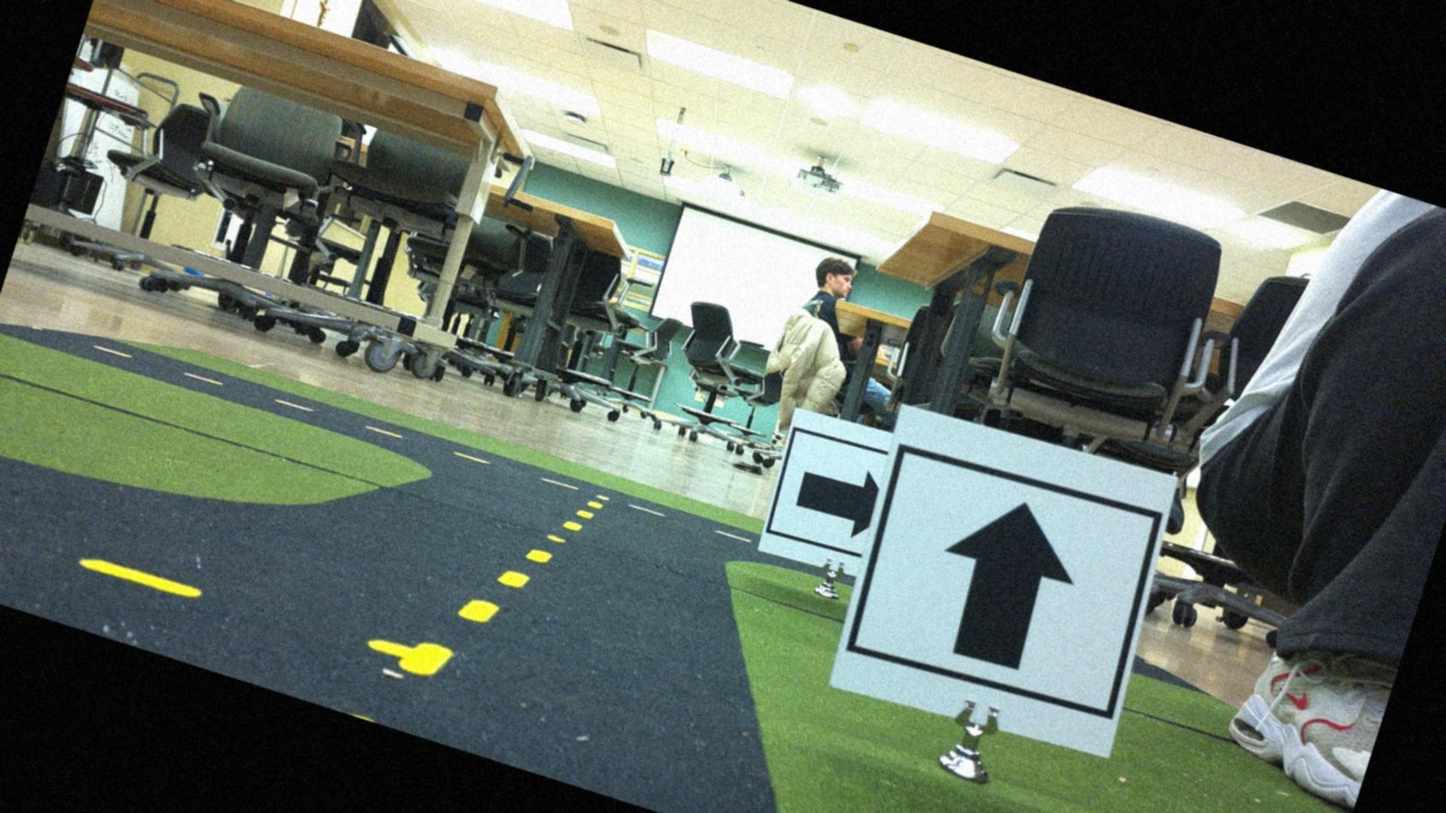gostraight: (839, 409, 1185, 762)
turnleft: (754, 429, 886, 566)
yellowline: (403, 451, 608, 714)
